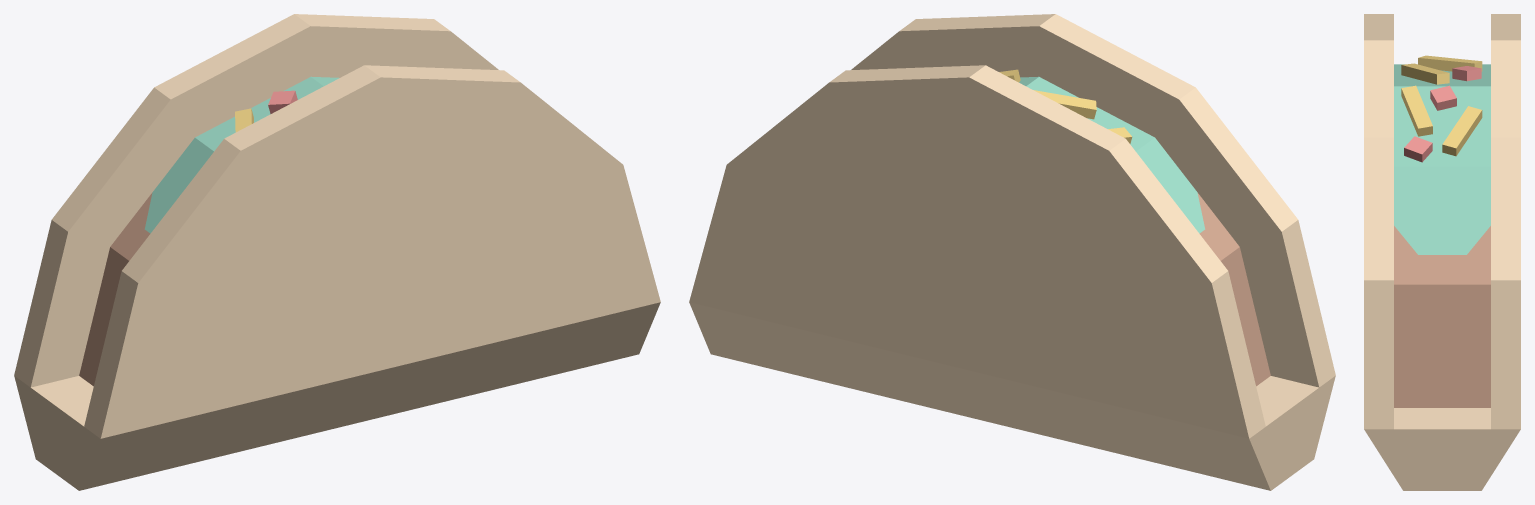
File: asset.glb
3 views of the same model, side by side, from view 1: azimuth 30°, elevation 25°; view 2: azimuth 150°, elevation 25°; view 3: azimuth 270°, elevation 25° (orthographic). The views are drawn at different scales.
Parts seen in each view (by area): view 1: taco; view 2: taco; view 3: taco.
Part boxes in pixels (left/top/right/bottom): taco: left=14, top=14, right=660, bottom=490; taco: left=689, top=14, right=1335, bottom=490; taco: left=1364, top=14, right=1520, bottom=490.
Bounding box in the file's own units: 0.4256 × 0.2622 × 0.114.
